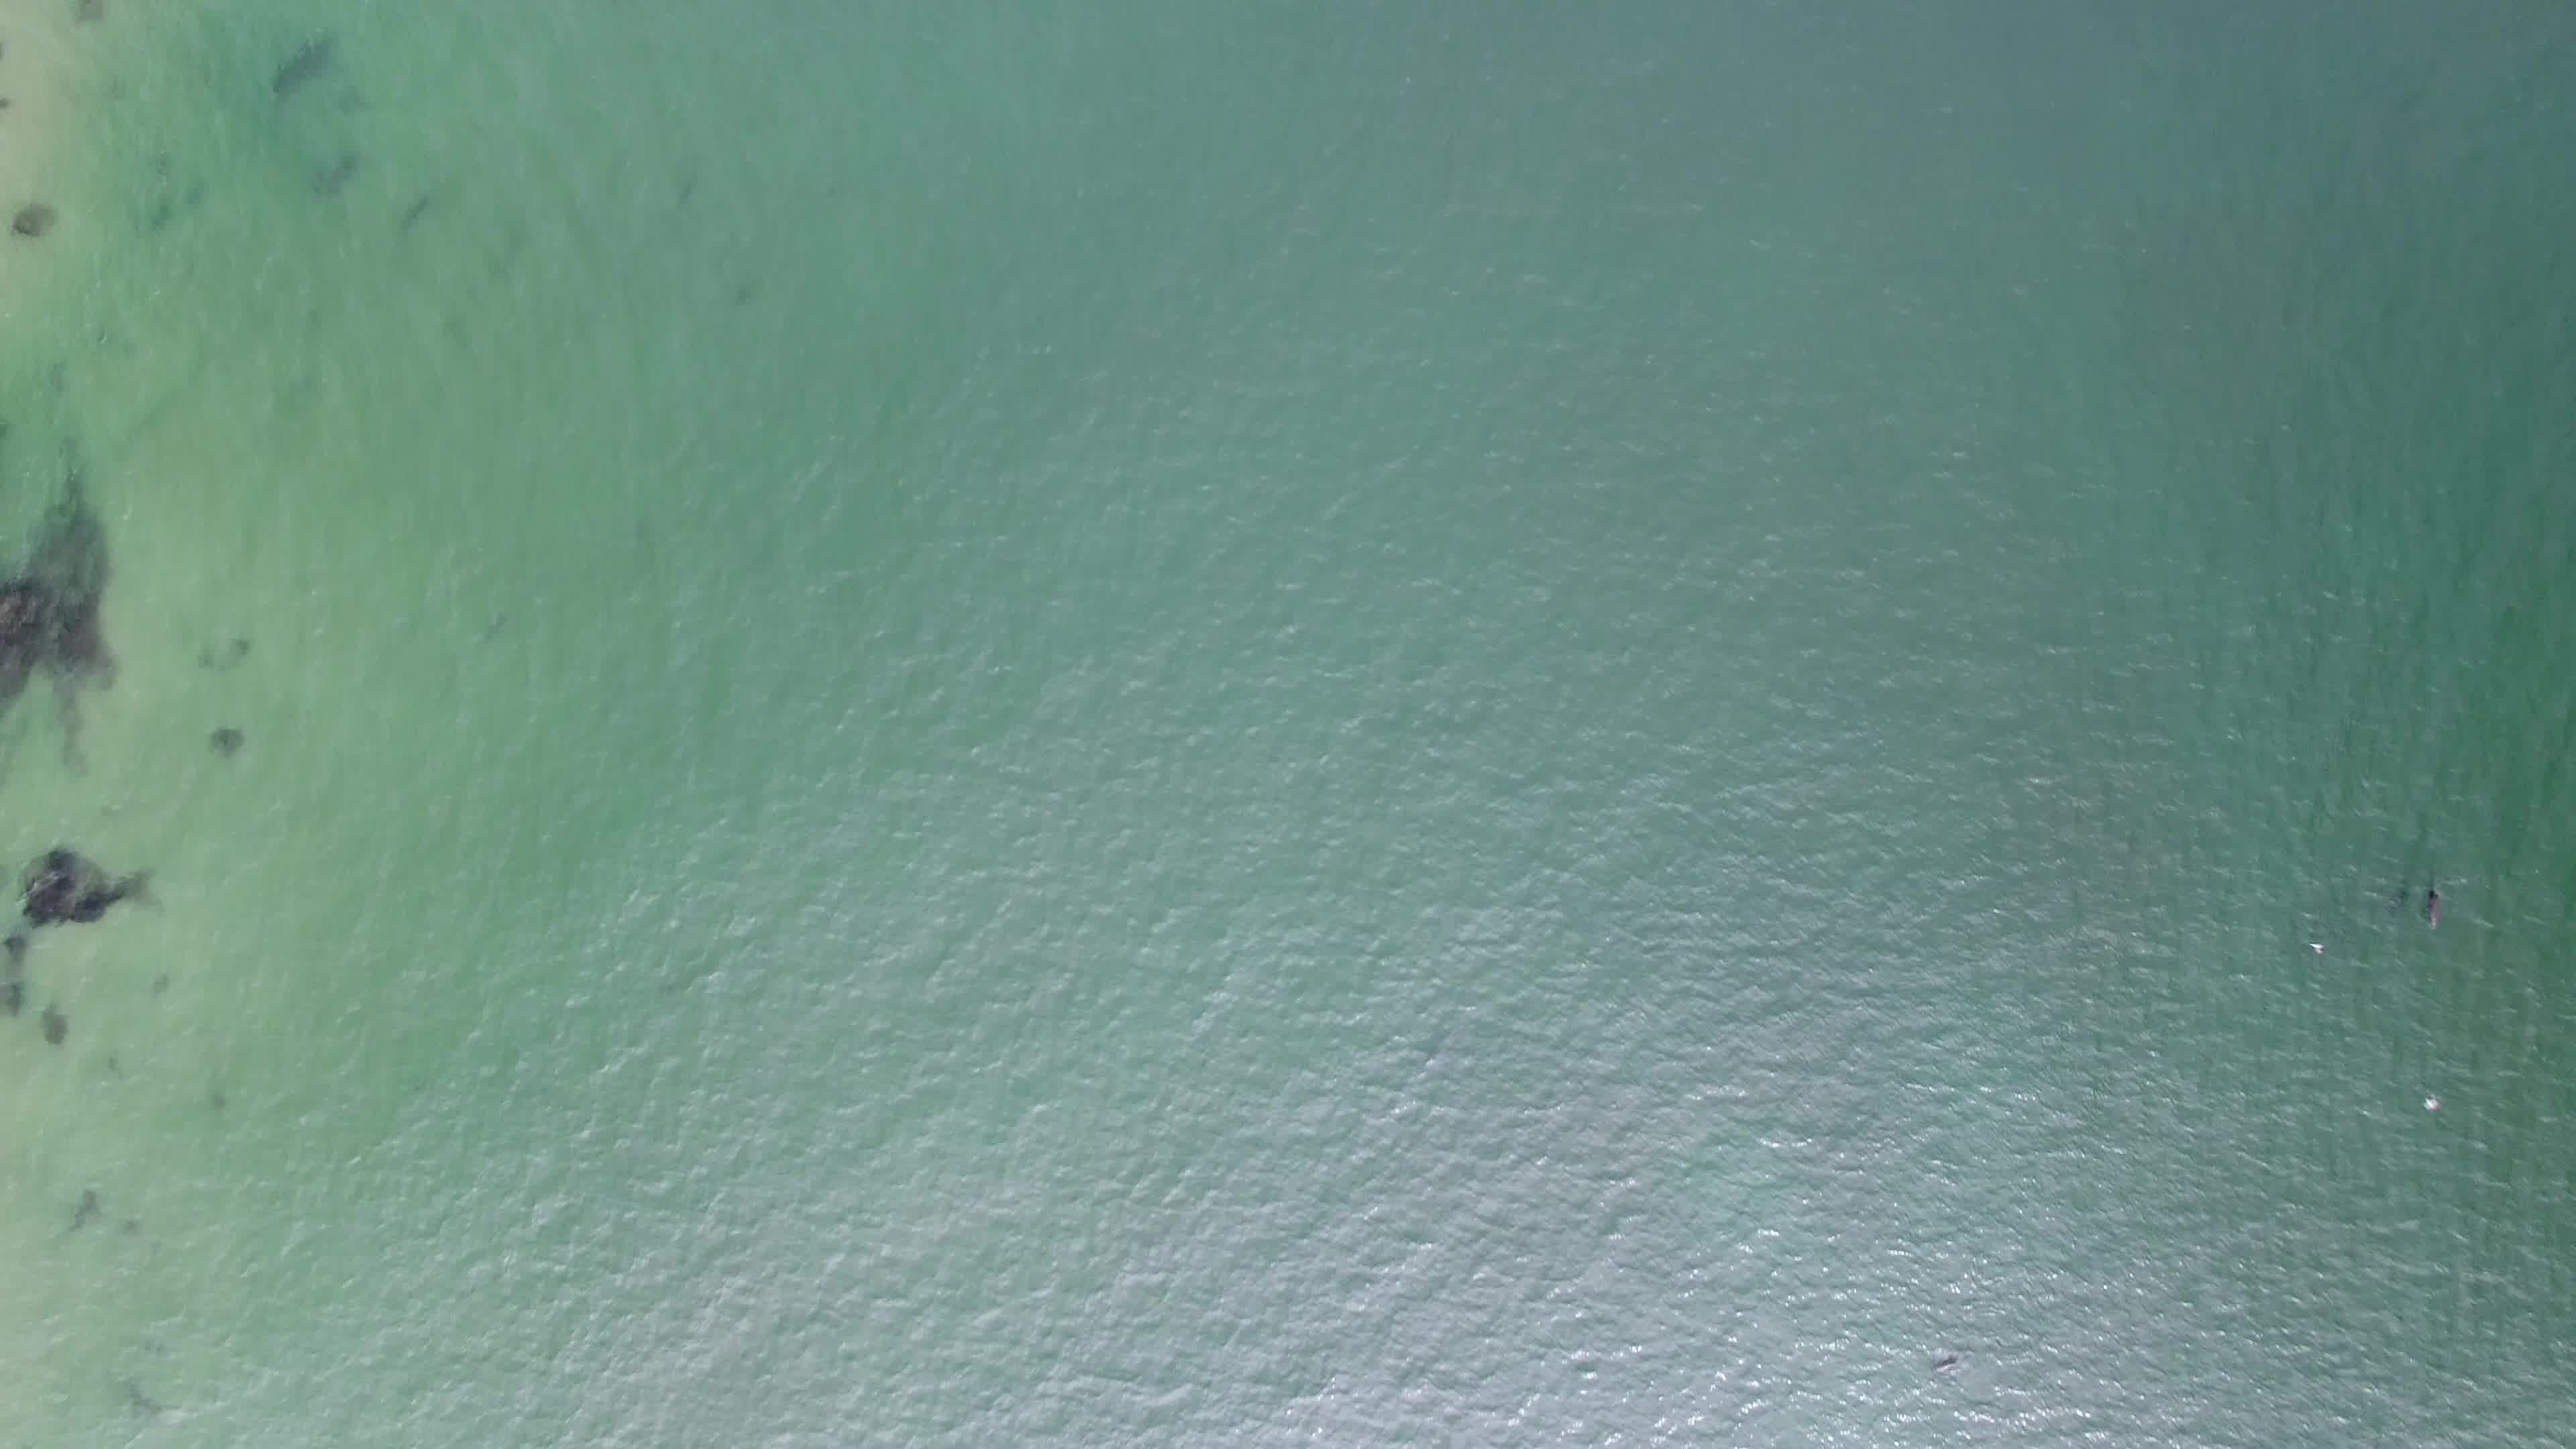dolphin: (2415, 869, 2457, 939)
